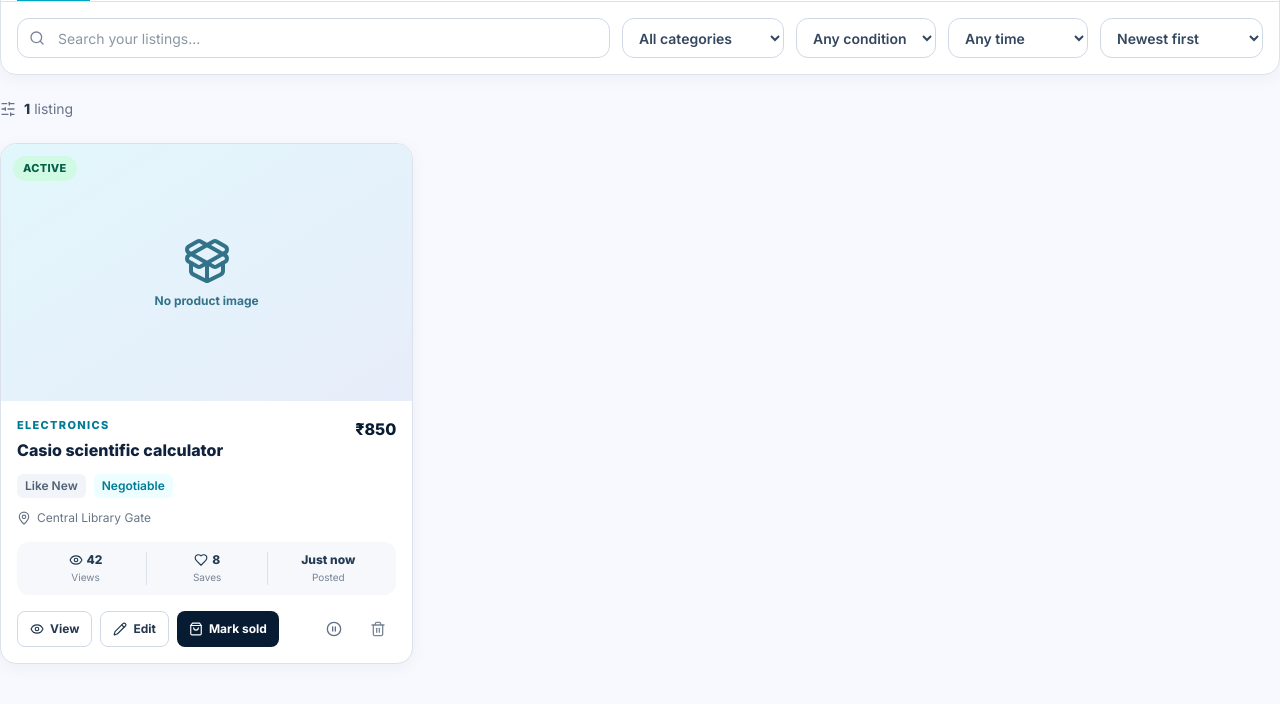
Test: MyMarketplacePage › loads authenticated seller data and confirms listing status actions
This screenshot has width=1280, height=704.
(page scrolled)
Expected: the heading "Casio scientific calculator" is shown, [17,438,223,462]
Click the button "Mark sold". click: coordinates (228, 629)
box: [177,611,279,647]
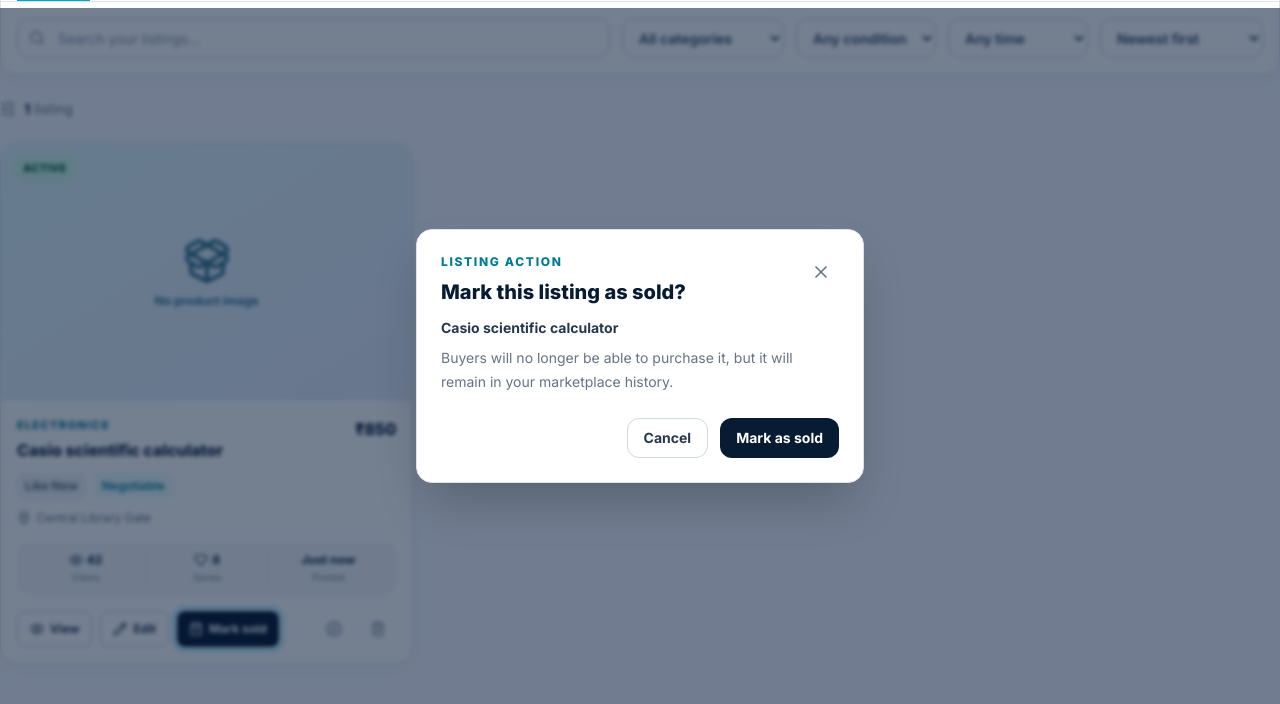
Now the heading "Mark this listing as sold?" is shown, box [441,278,686,306]
Click the button "Mark as sold". click: coordinates (780, 438)
box: [720,418,839,458]
(page scrolled)
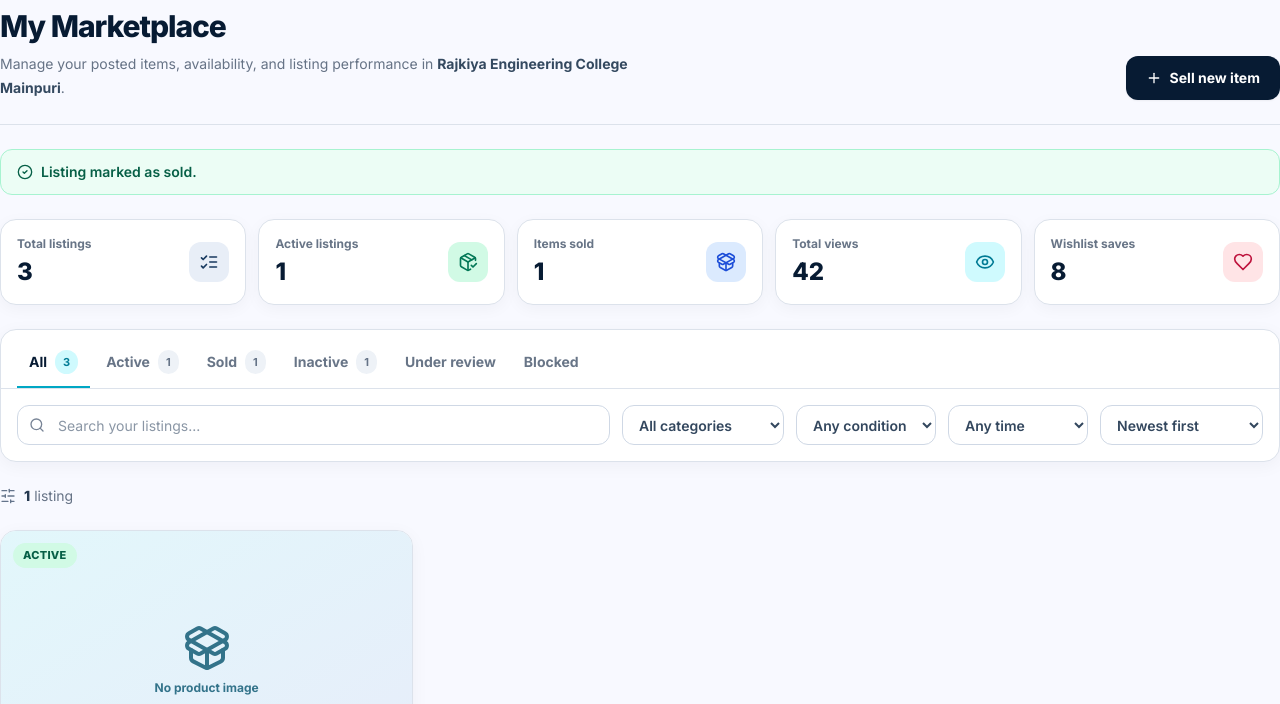
Now the text "Listing marked as sold." is shown, box [0,149,1279,195]
